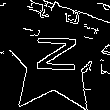N_W: (30, 39, 79, 81)
